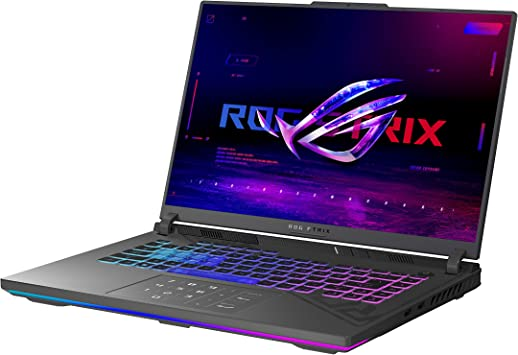laptop: (46, 2, 513, 329)
